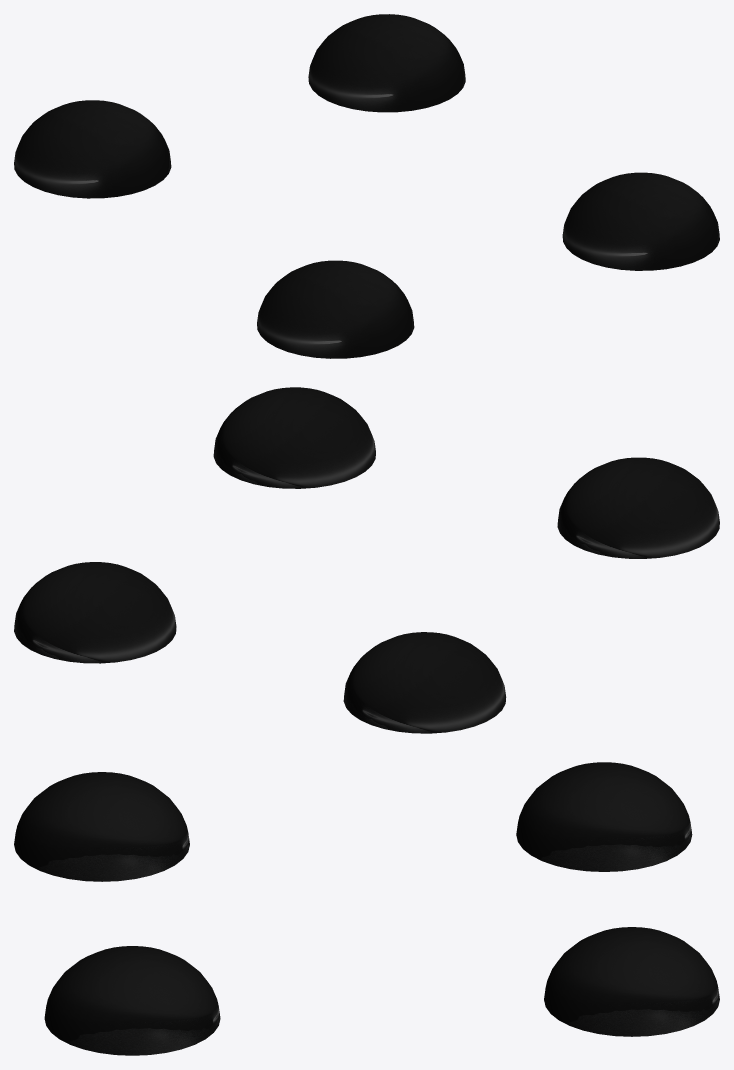
The model's file is droneBlack.glb.
The picture shows the model from 3 angles, top to bottom: view 1: azimuth 30°, elevation 25°; view 2: azimuth 150°, elevation 25°; view 3: azimuth 270°, elevation 25°; orthographic projection. The views are drawn at different scales.
Visible parts, largest first — view 1: Sphere.001, Sphere.004, Sphere.003, Sphere.002; view 2: Sphere.001, Sphere.004, Sphere.002, Sphere.003; view 3: Sphere.003, Sphere.001, Sphere.002, Sphere.004.
Boxes of the visible parts, x1=… form: Sphere.001: x1=308, y1=14, x2=465, y2=112; Sphere.004: x1=14, y1=100, x2=171, y2=198; Sphere.003: x1=257, y1=260, x2=414, y2=358; Sphere.002: x1=562, y1=172, x2=719, y2=270; Sphere.001: x1=14, y1=562, x2=176, y2=663; Sphere.004: x1=343, y1=632, x2=506, y2=733; Sphere.002: x1=213, y1=387, x2=375, y2=488; Sphere.003: x1=557, y1=457, x2=719, y2=558; Sphere.003: x1=14, y1=772, x2=189, y2=881; Sphere.001: x1=544, y1=927, x2=719, y2=1036; Sphere.002: x1=44, y1=946, x2=220, y2=1055; Sphere.004: x1=516, y1=762, x2=692, y2=871.
Size of the model in its own units: 10.93 by 1.28 by 12.63.
Materials: 1 (1 with a texture image).
